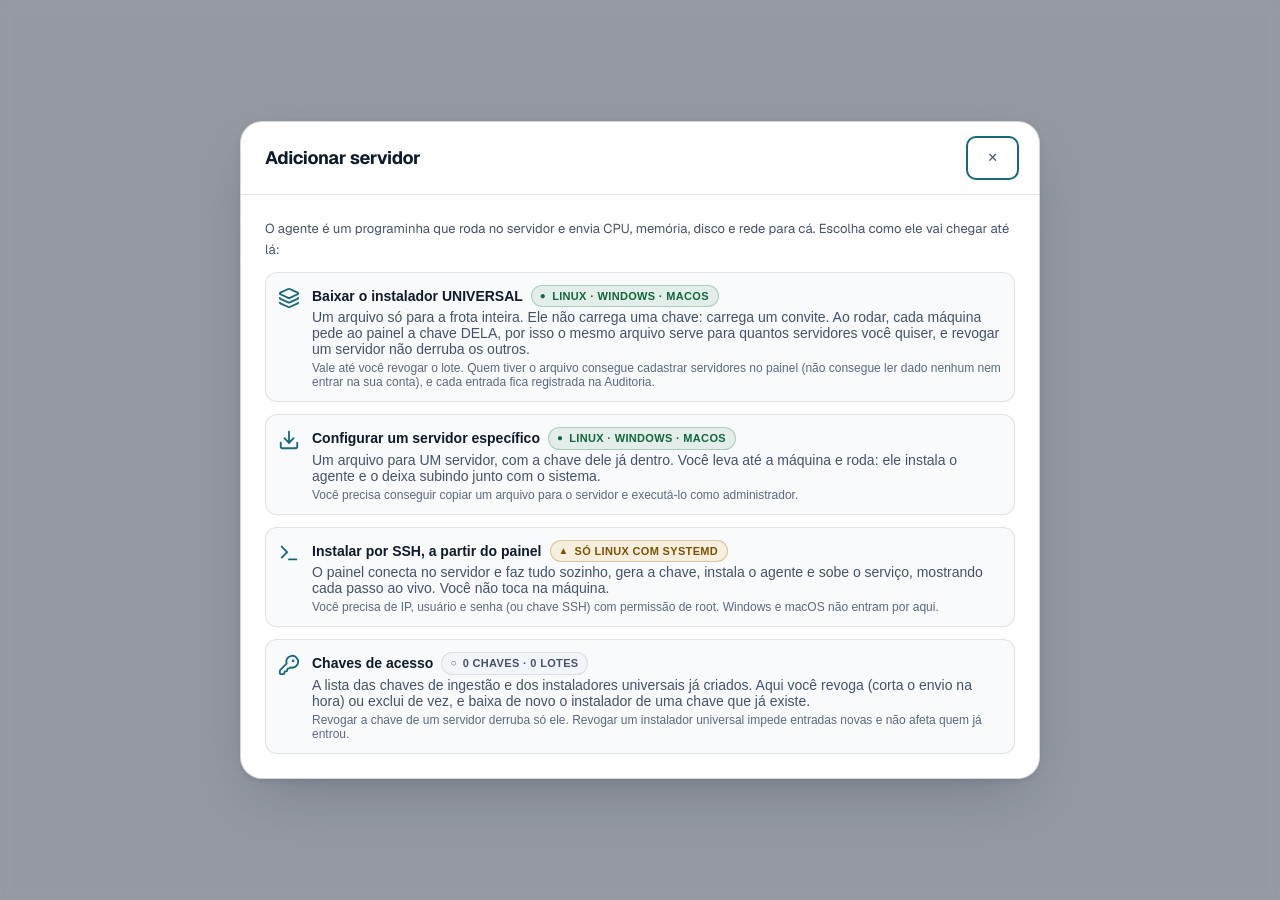
Adicionar servidor — escolha do caminho › não deixa gerar instalador sem nomear o servidor
The width and height of the screenshot is (1280, 900).
Click the button "Configurar um servidor específico" at [640, 464], box [265,414,1015,515]
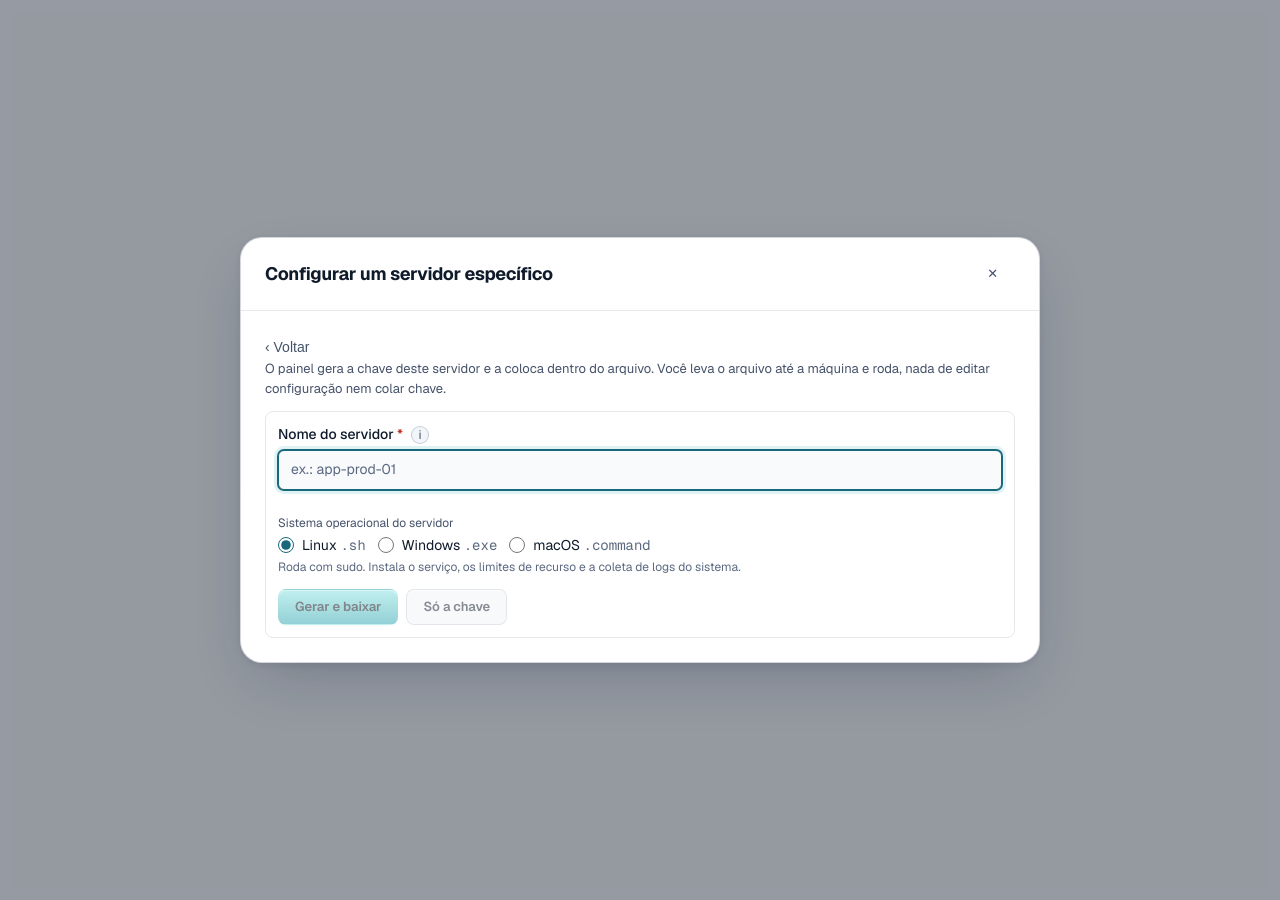
Expected: the button "Gerar e baixar" is disabled, [278,589,398,625]
Type "app-prod-01" into the field with placeholder "ex.: app-prod-01" at [640, 470], box [278,450,1002,490]
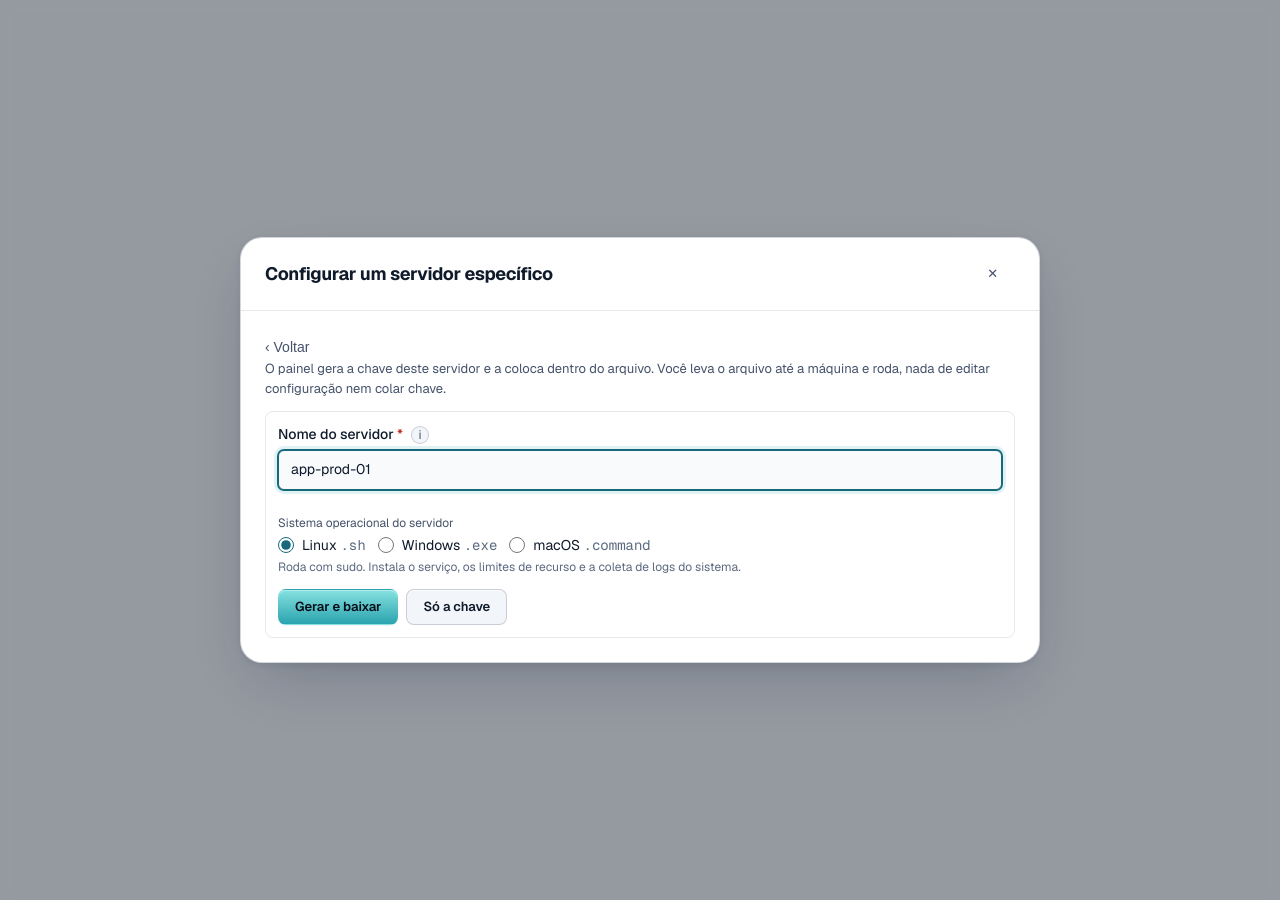
Expected: the button "Gerar e baixar" is enabled, [278,589,398,625]
